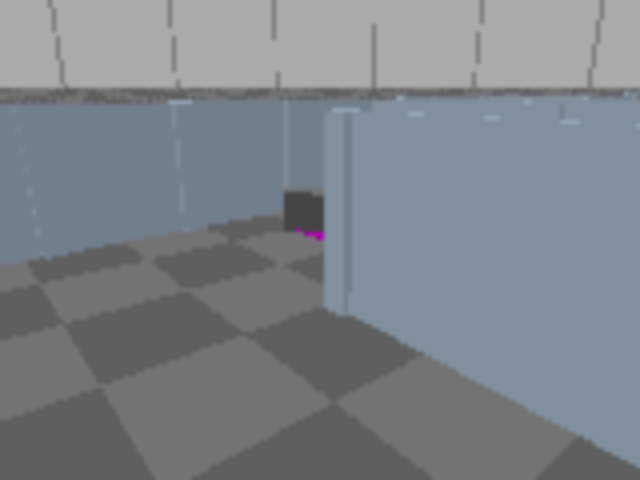obstacle: (282, 188, 336, 233)
